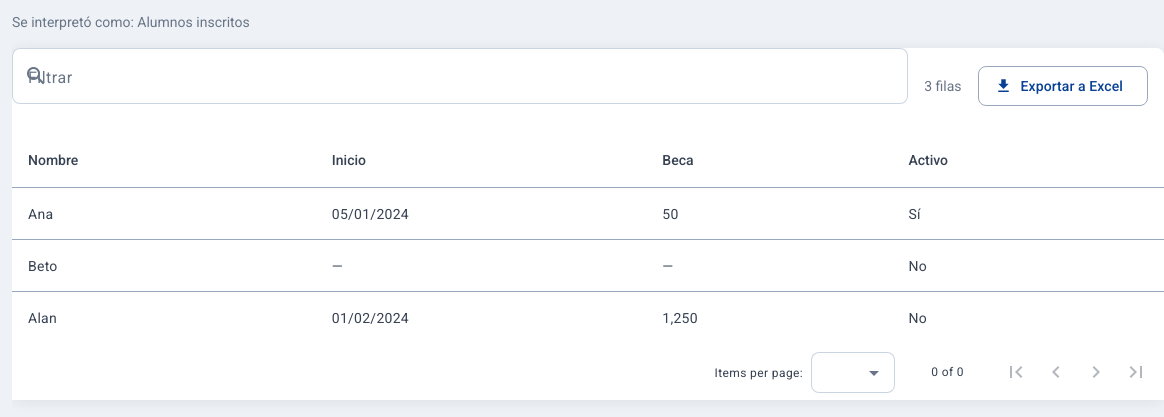
Test: ReportResultComponent › Excel export › export button state › is disabled while the filter matches no rows and enabled again after clearing it
Type "zzz-no-match" into the field with test id "report-filter" at (478, 76), box 64,64 -> 892,88
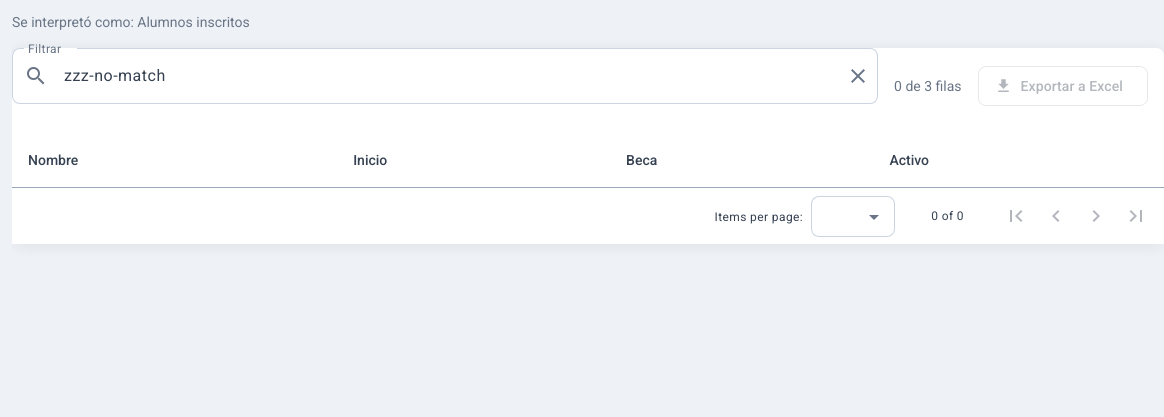
Check: the button with test id "export-to-excel-btn" is disabled, box 978,66 -> 1148,106
Clear the field with test id "report-filter" at (449, 76), box 64,64 -> 834,88
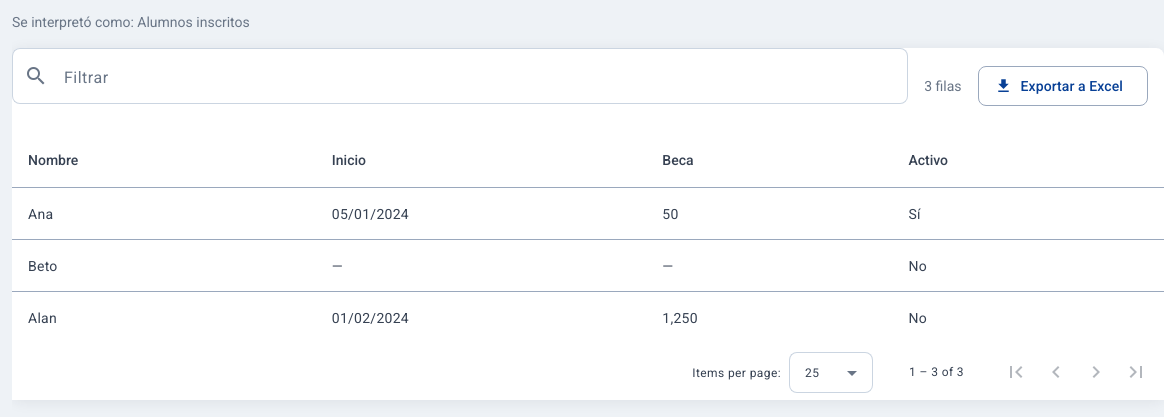
Check: the button with test id "export-to-excel-btn" is enabled, box 978,66 -> 1148,106
